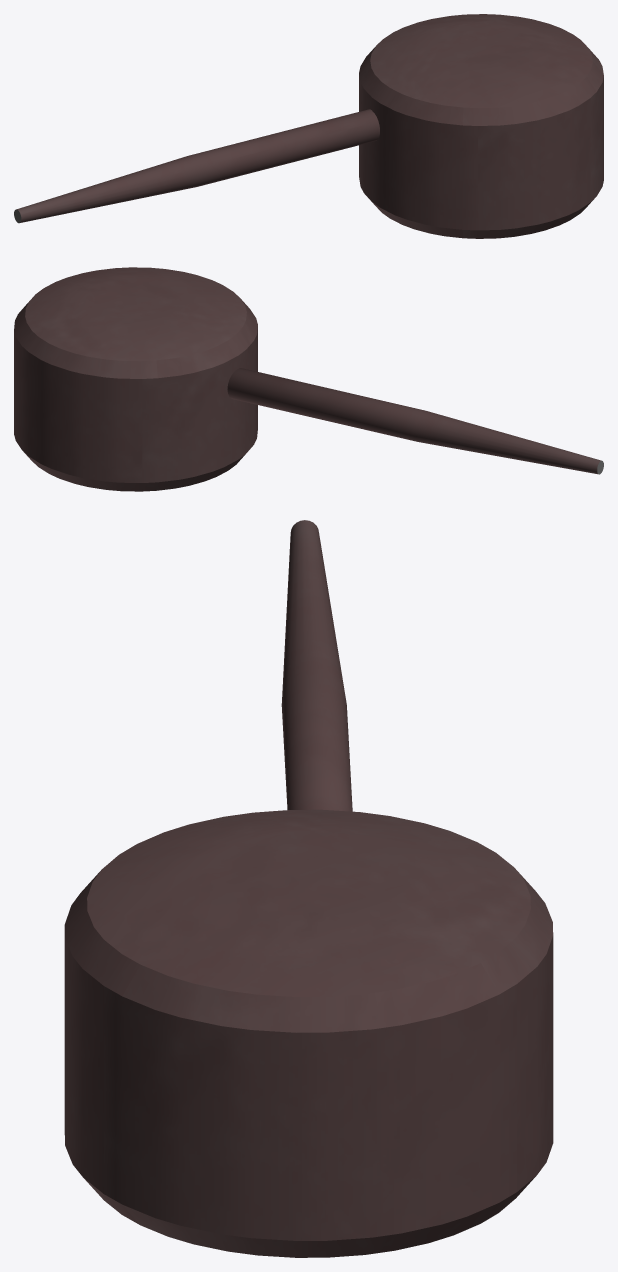
The model's file is APC_turret.fbx.
3 renders of one model, top to bottom at view 1: azimuth 30°, elevation 25°; view 2: azimuth 150°, elevation 25°; view 3: azimuth 270°, elevation 25°, orthographic. The views are drawn at different scales.
Parts seen in each view (by area): view 1: Turret_TopShape; view 2: Turret_TopShape; view 3: Turret_TopShape.
Boxes of the visible parts, box(x1,y1,x2,y2) form: Turret_TopShape: box(14, 14, 603, 238); Turret_TopShape: box(14, 267, 603, 491); Turret_TopShape: box(64, 520, 553, 1257).
Size of the model in its own units: 4.04 by 0.9855 by 1.5.
1 material, 1 textured.
